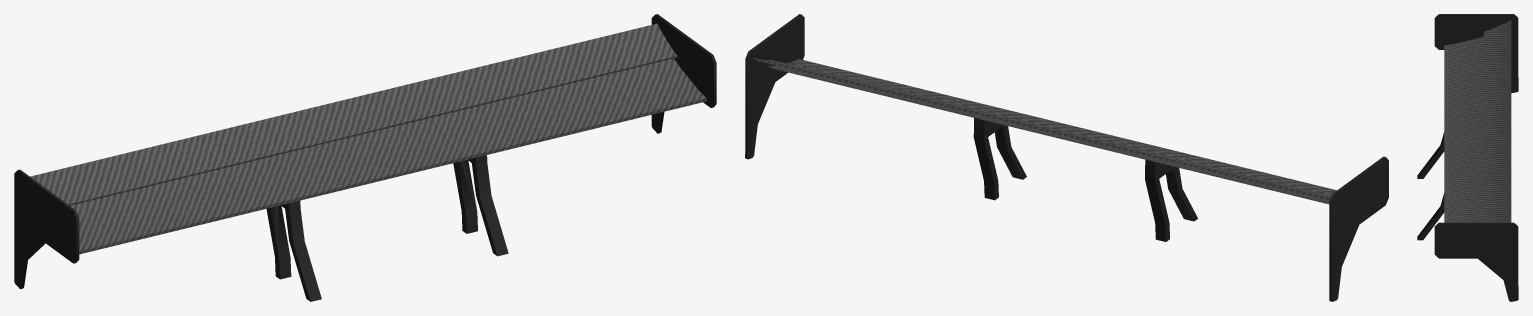
The model's file is Spoiler_8.fbx.
3 renders of one model, left to right at view 1: azimuth 30°, elevation 25°; view 2: azimuth 150°, elevation 25°; view 3: azimuth 270°, elevation 25°, orthographic. The views are drawn at different scales.
Parts seen in each view (by area): view 1: Spoiler_8; view 2: Spoiler_8; view 3: Spoiler_8.
Part boxes in pixels (box(x1,y1,x2,y2)): Spoiler_8: box(14, 14, 716, 301); Spoiler_8: box(745, 14, 1388, 301); Spoiler_8: box(1417, 14, 1518, 301).
Bounding box in the file's own units: 136 × 26.98 × 27.77.
